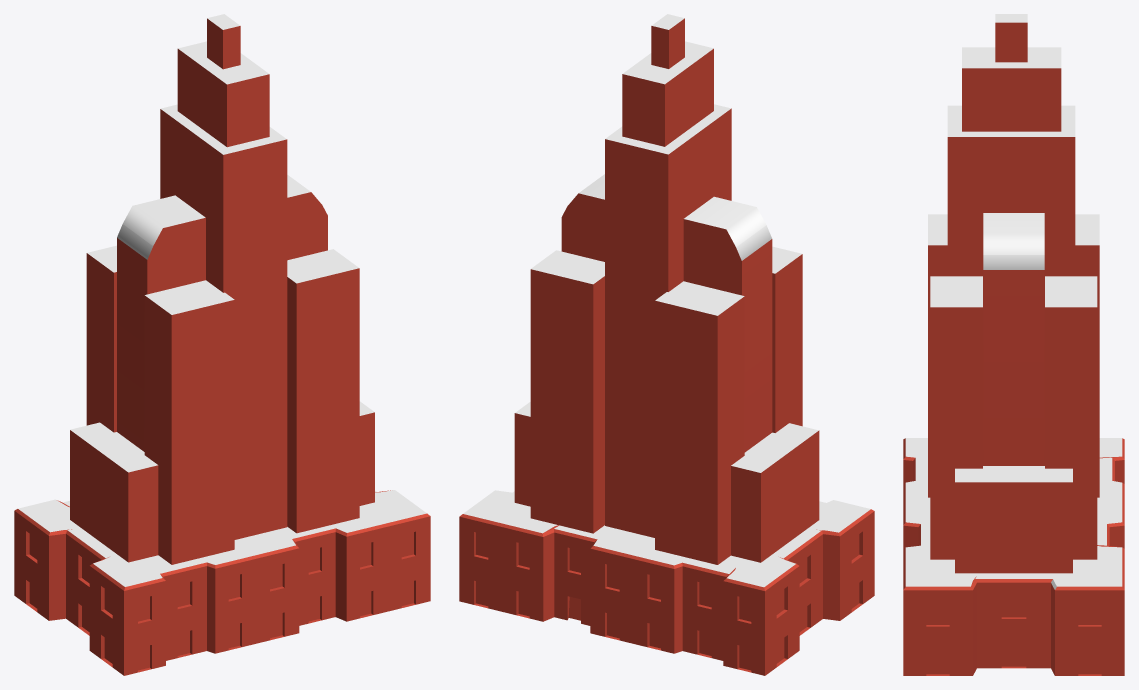
Rendered from Building_22_Red.glb.
3 views of the same model, side by side, from view 1: azimuth 30°, elevation 25°; view 2: azimuth 150°, elevation 25°; view 3: azimuth 270°, elevation 25° (orthographic).
Parts seen in each view (by area): view 1: pCube7; view 2: pCube7; view 3: pCube7.
Boxes of the visible parts, x1=… form: pCube7: x1=14, y1=14, x2=430, y2=675; pCube7: x1=459, y1=14, x2=874, y2=675; pCube7: x1=903, y1=14, x2=1124, y2=675.
Bounding box in the file's own units: 2507 × 4511 × 1556.
